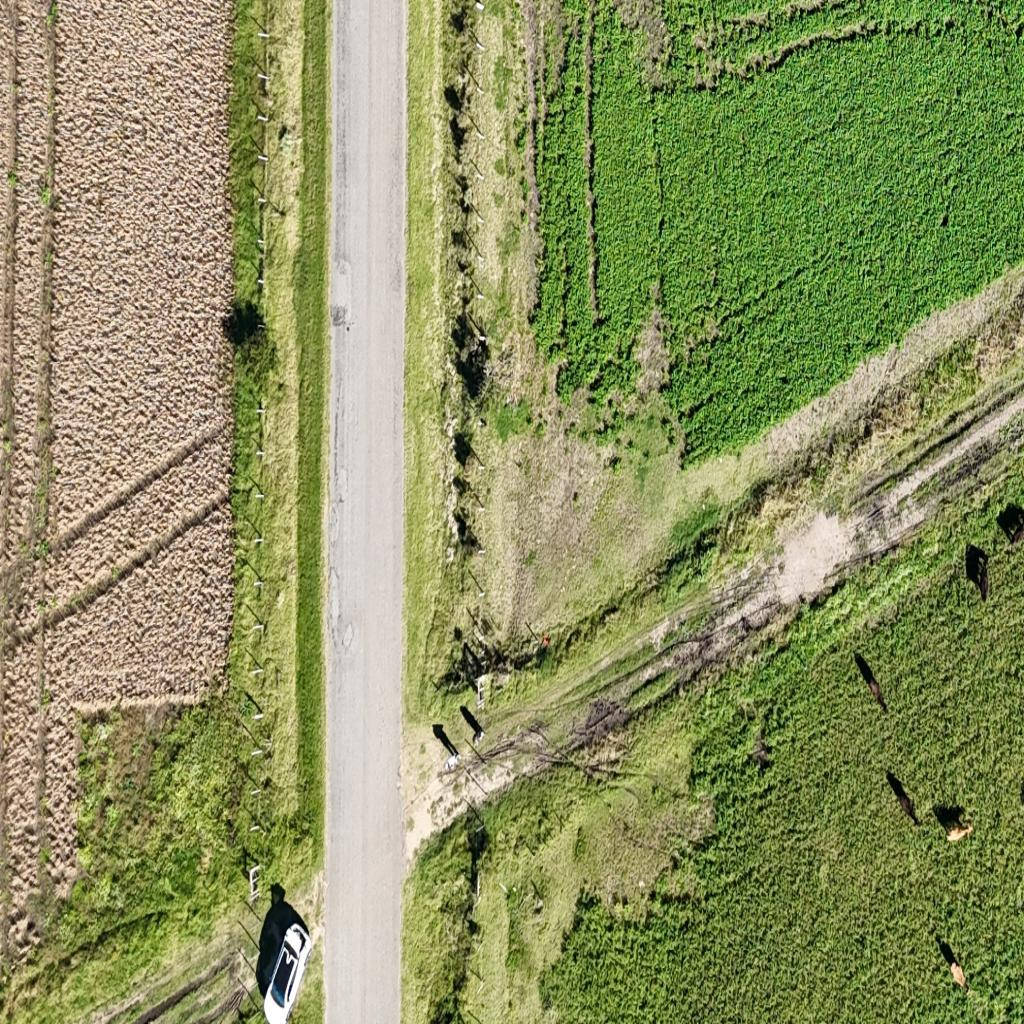cow: (854, 651, 889, 711), (936, 936, 971, 995), (886, 771, 920, 825), (932, 801, 974, 843), (965, 544, 991, 604), (997, 502, 1024, 547)
